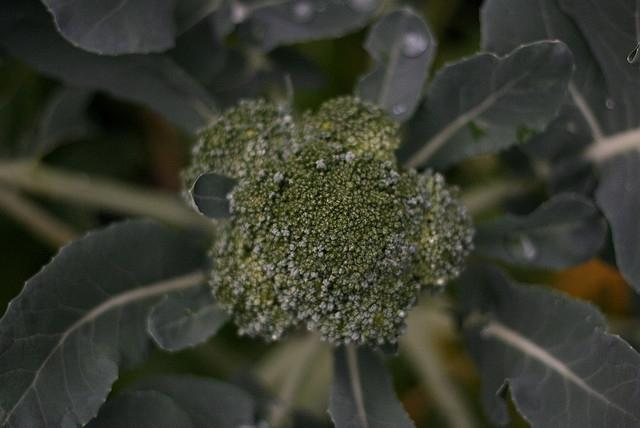broccoli: (227, 138, 434, 346)
